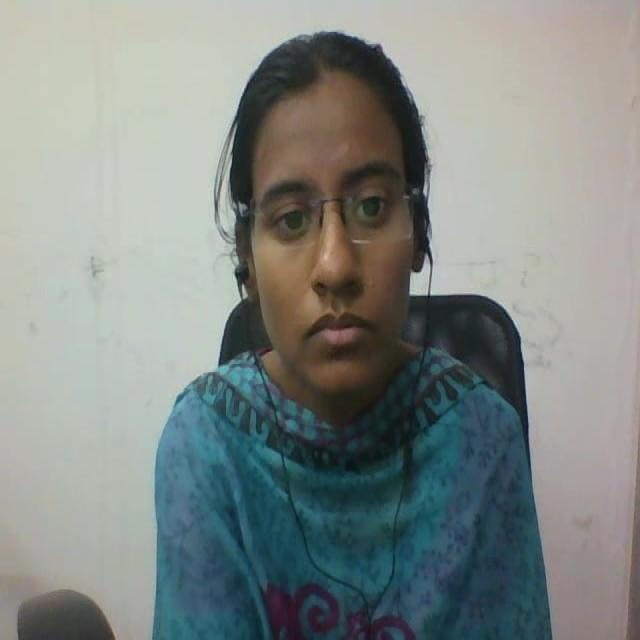Engaged: (206, 20, 438, 419)
